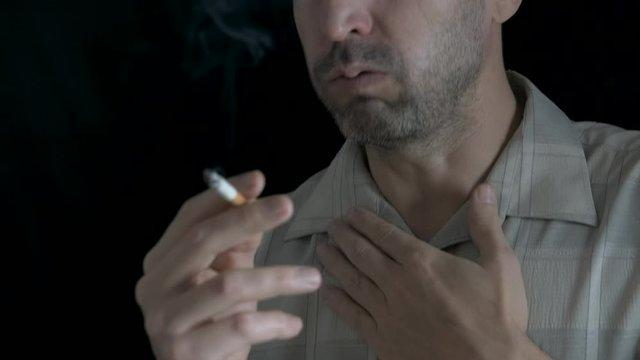Cigarette: (202, 168, 246, 206)
